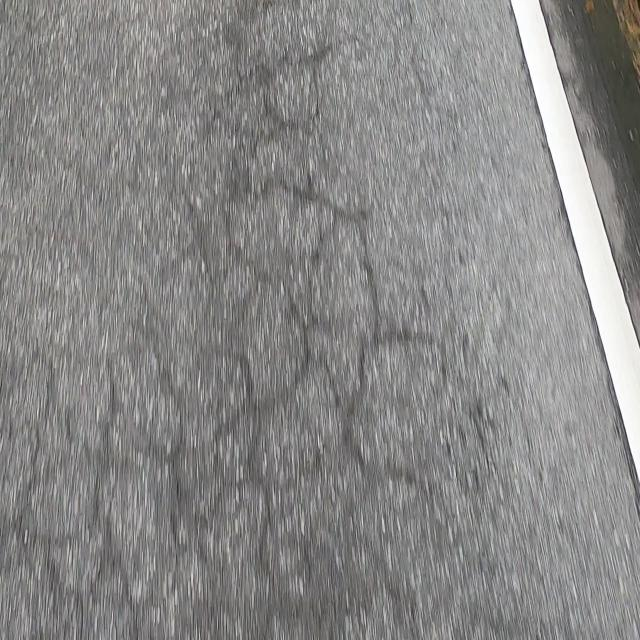Retak-Buaya: (0, 32, 443, 640)
